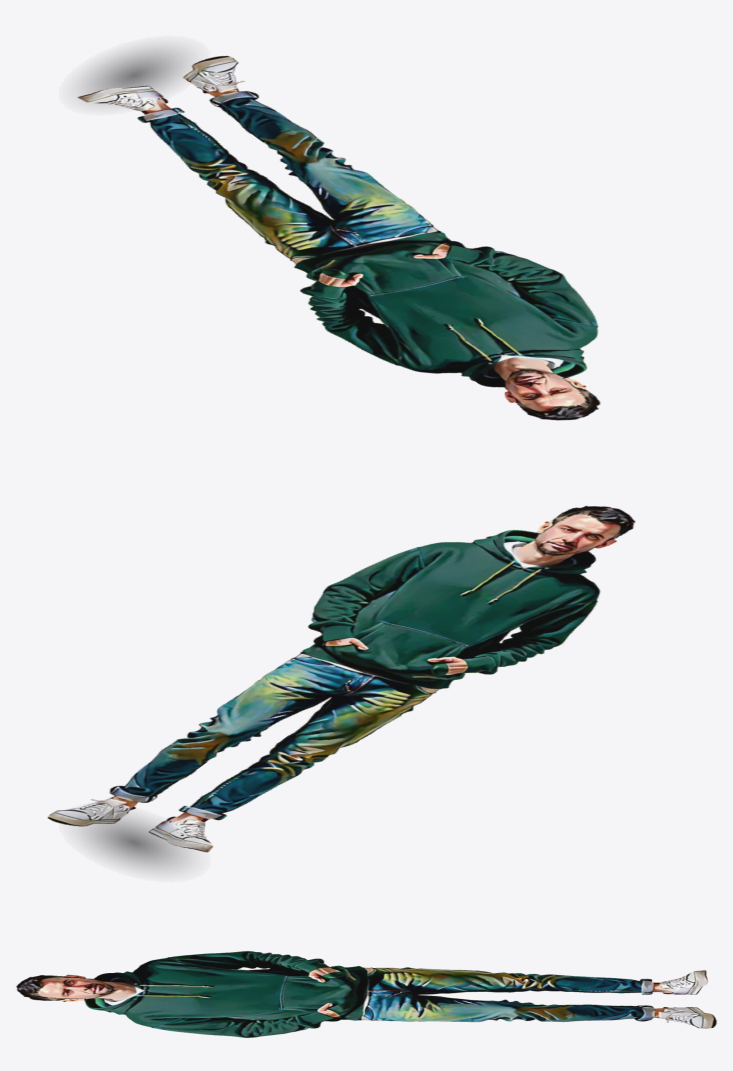
File: person-m.glb
3 views of the same model, one above another, from view 1: azimuth 30°, elevation 25°; view 2: azimuth 150°, elevation 25°; view 3: azimuth 270°, elevation 25° (orthographic). The views are drawn at different scales.
Parts seen in each view (by area): view 1: Body, Shadow; view 2: Body, Shadow; view 3: Body.
Boxes of the visible parts, box(x1,y1,x2,y2) form: Body: box(77, 55, 600, 420); Shadow: box(83, 48, 185, 93); Body: box(47, 506, 635, 852); Shadow: box(83, 815, 185, 869); Body: box(16, 951, 716, 1037).
Bounding box in the file's own units: 1 × 0.32 × 3.35.
2 materials, 2 textured.
